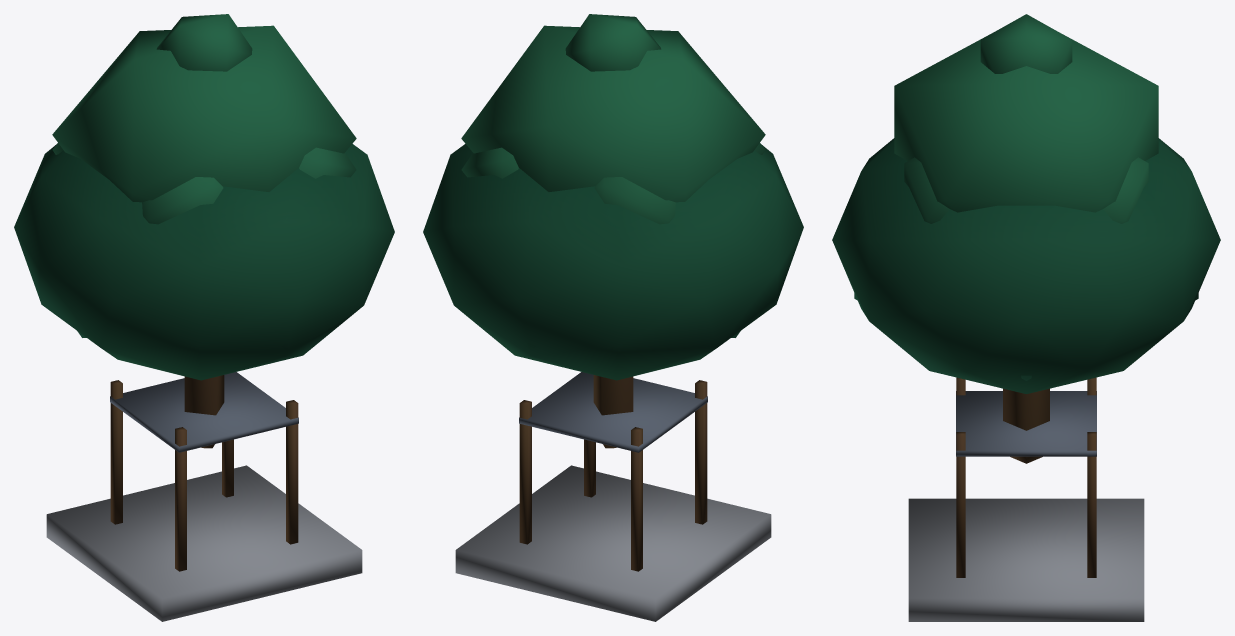
The model's file is city_tree.glb.
3 views of the same model, side by side, from view 1: azimuth 30°, elevation 25°; view 2: azimuth 150°, elevation 25°; view 3: azimuth 270°, elevation 25° (orthographic). The views are drawn at different scales.
Visible parts, largest first — view 1: city_tree; view 2: city_tree; view 3: city_tree.
Part boxes in pixels (left/top/right/bottom): city_tree: left=14, top=14, right=394, bottom=621; city_tree: left=423, top=14, right=803, bottom=621; city_tree: left=832, top=14, right=1220, bottom=621.
Bounding box in the file's own units: 2.97 × 4.6 × 2.97.
